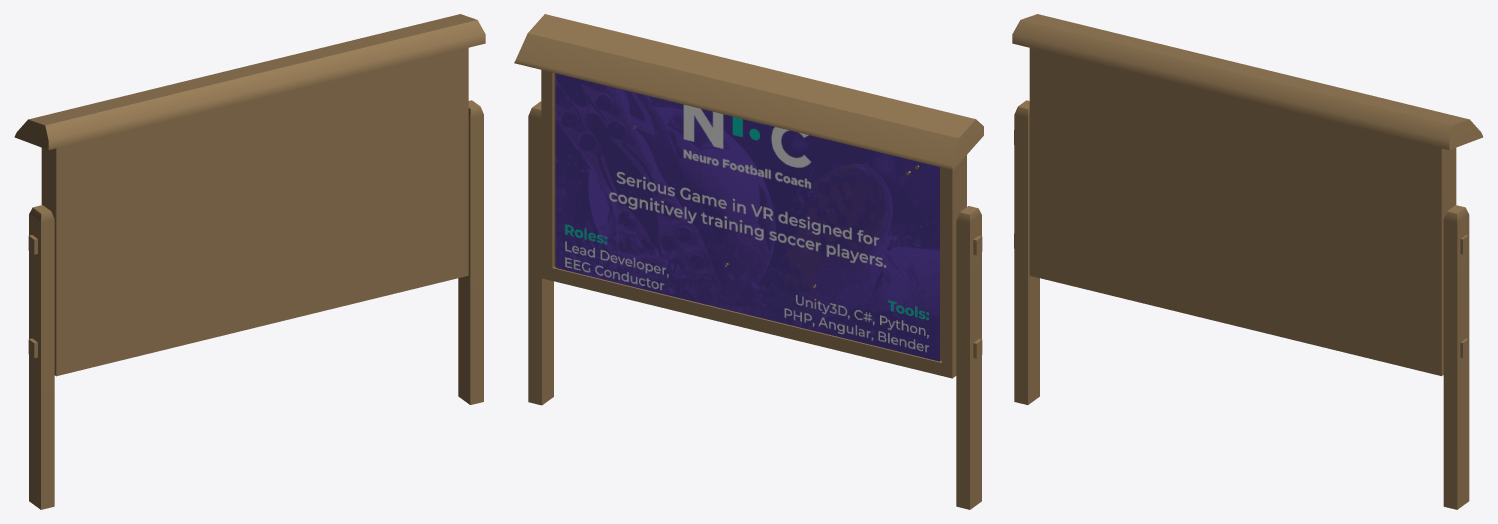
The model's file is project1.gltf.
3 views of the same model, side by side, from view 1: azimuth 30°, elevation 25°; view 2: azimuth 150°, elevation 25°; view 3: azimuth 330°, elevation 25° (orthographic).
Visible parts, largest first — view 1: nfc; view 2: Linkedin-Logo-300x188, nfc; view 3: nfc.
Part boxes in pixels (left/top/right/bottom): nfc: left=14, top=14, right=485, bottom=509; Linkedin-Logo-300x188: left=555, top=73, right=939, bottom=361; nfc: left=514, top=14, right=983, bottom=509; nfc: left=1012, top=14, right=1482, bottom=509.
Size of the model in its own units: 12.13 by 9.88 by 1.52.
2 materials, 1 textured.
